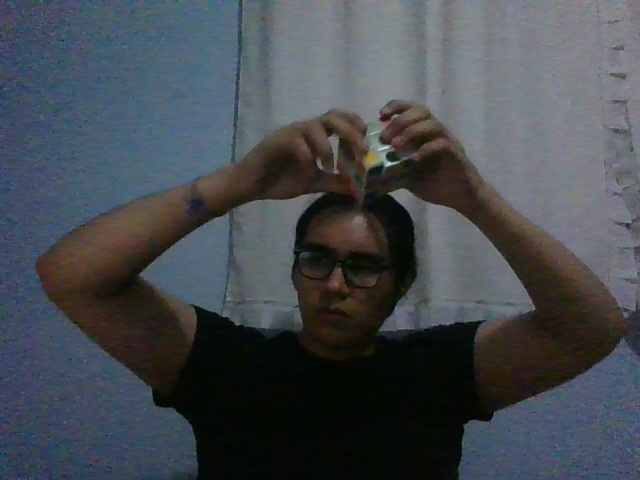rubik: (336, 116, 415, 206)
